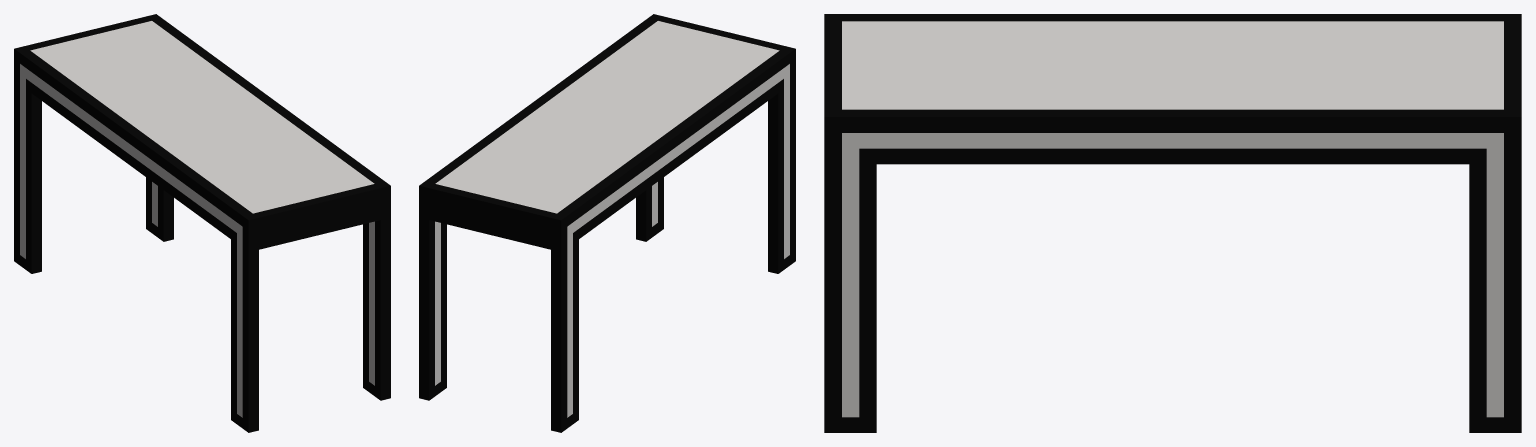
File: worktable4.obj
3 renders of one model, left to right at view 1: azimuth 30°, elevation 25°; view 2: azimuth 150°, elevation 25°; view 3: azimuth 270°, elevation 25°, orthographic. The views are drawn at different scales.
Bounding box in the file's own units: 1.4 × 2 × 4.
1 material, 1 textured.
